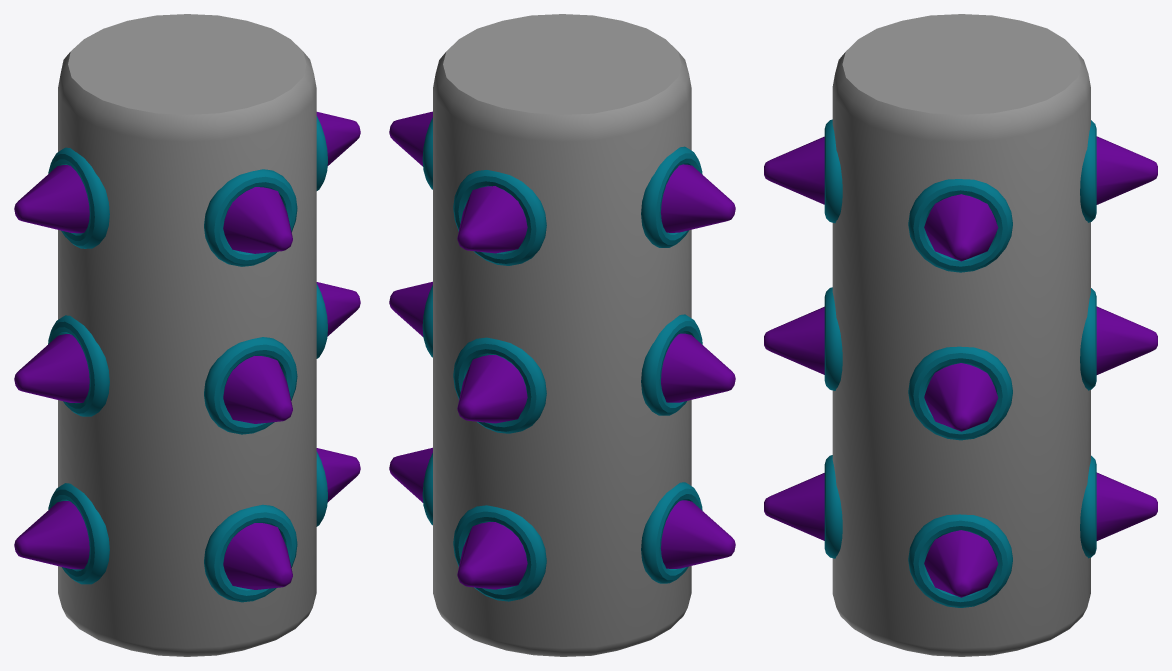
File: obstacle_tower.fbx
3 renders of one model, left to right at view 1: azimuth 30°, elevation 25°; view 2: azimuth 150°, elevation 25°; view 3: azimuth 270°, elevation 25°, orthographic.
Visible parts, largest first — view 1: obstacle_tower; view 2: obstacle_tower; view 3: obstacle_tower.
Part boxes in pixels (x1=…): obstacle_tower: x1=14, y1=14, x2=360, y2=656; obstacle_tower: x1=389, y1=14, x2=735, y2=656; obstacle_tower: x1=764, y1=14, x2=1157, y2=656.
Size of the model in its own units: 52.01 by 52.05 by 79.57.
